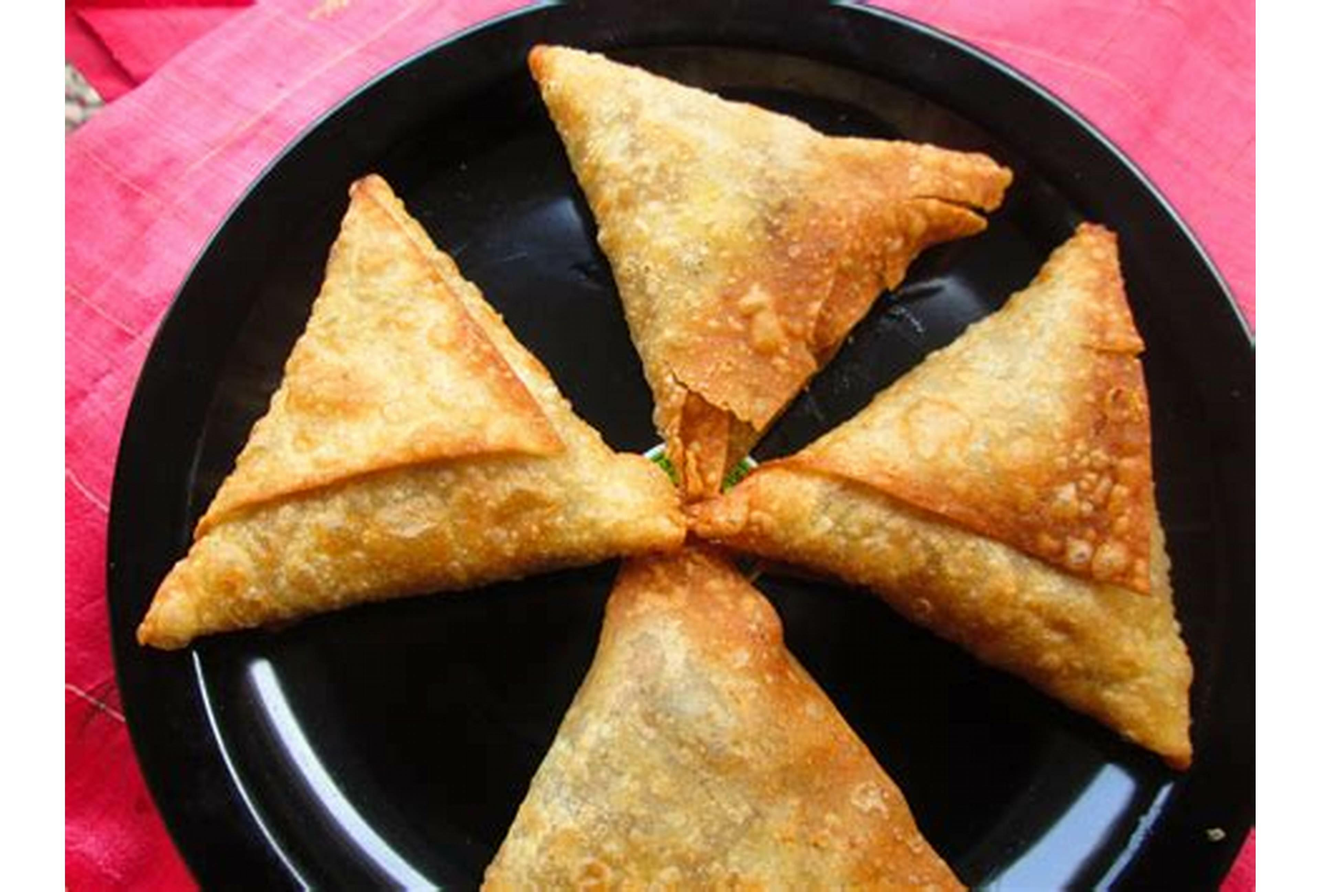Samosa: (682, 219, 1194, 775), (131, 171, 690, 646), (526, 41, 1014, 501), (468, 532, 973, 892)
